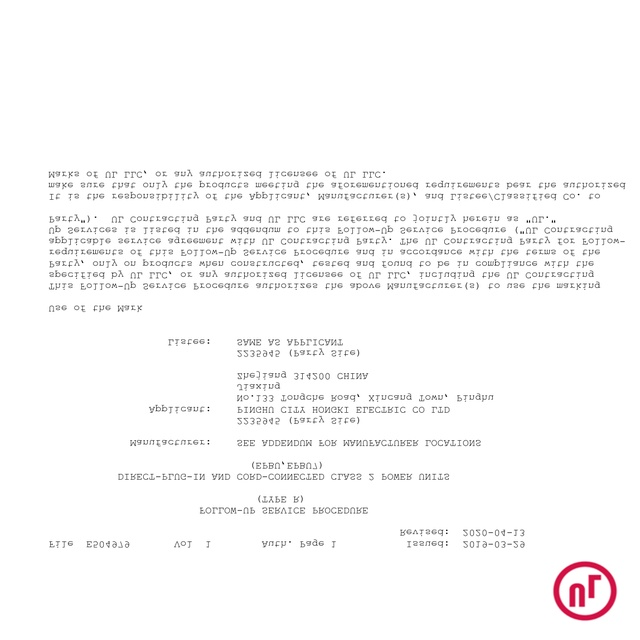ul: (551, 560, 617, 623)
